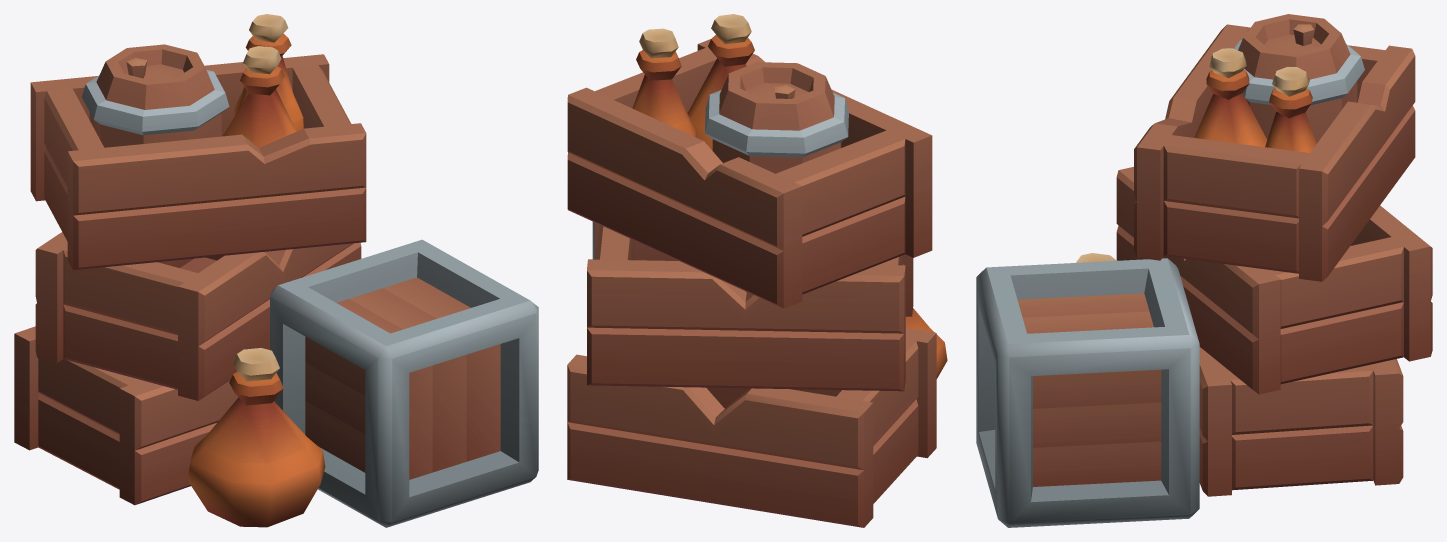
File: crates_stacked.glb
3 renders of one model, left to right at view 1: azimuth 30°, elevation 25°; view 2: azimuth 150°, elevation 25°; view 3: azimuth 270°, elevation 25°, orthographic. The views are drawn at different scales.
Visible parts, largest first — view 1: crates_stacked; view 2: crates_stacked; view 3: crates_stacked.
Part boxes in pixels (bbox=[...]): crates_stacked: bbox=[14, 14, 538, 527]; crates_stacked: bbox=[567, 14, 947, 527]; crates_stacked: bbox=[976, 14, 1432, 527].
Size of the model in its own units: 2.09 by 2.14 by 2.25.
1 material, 1 textured.
